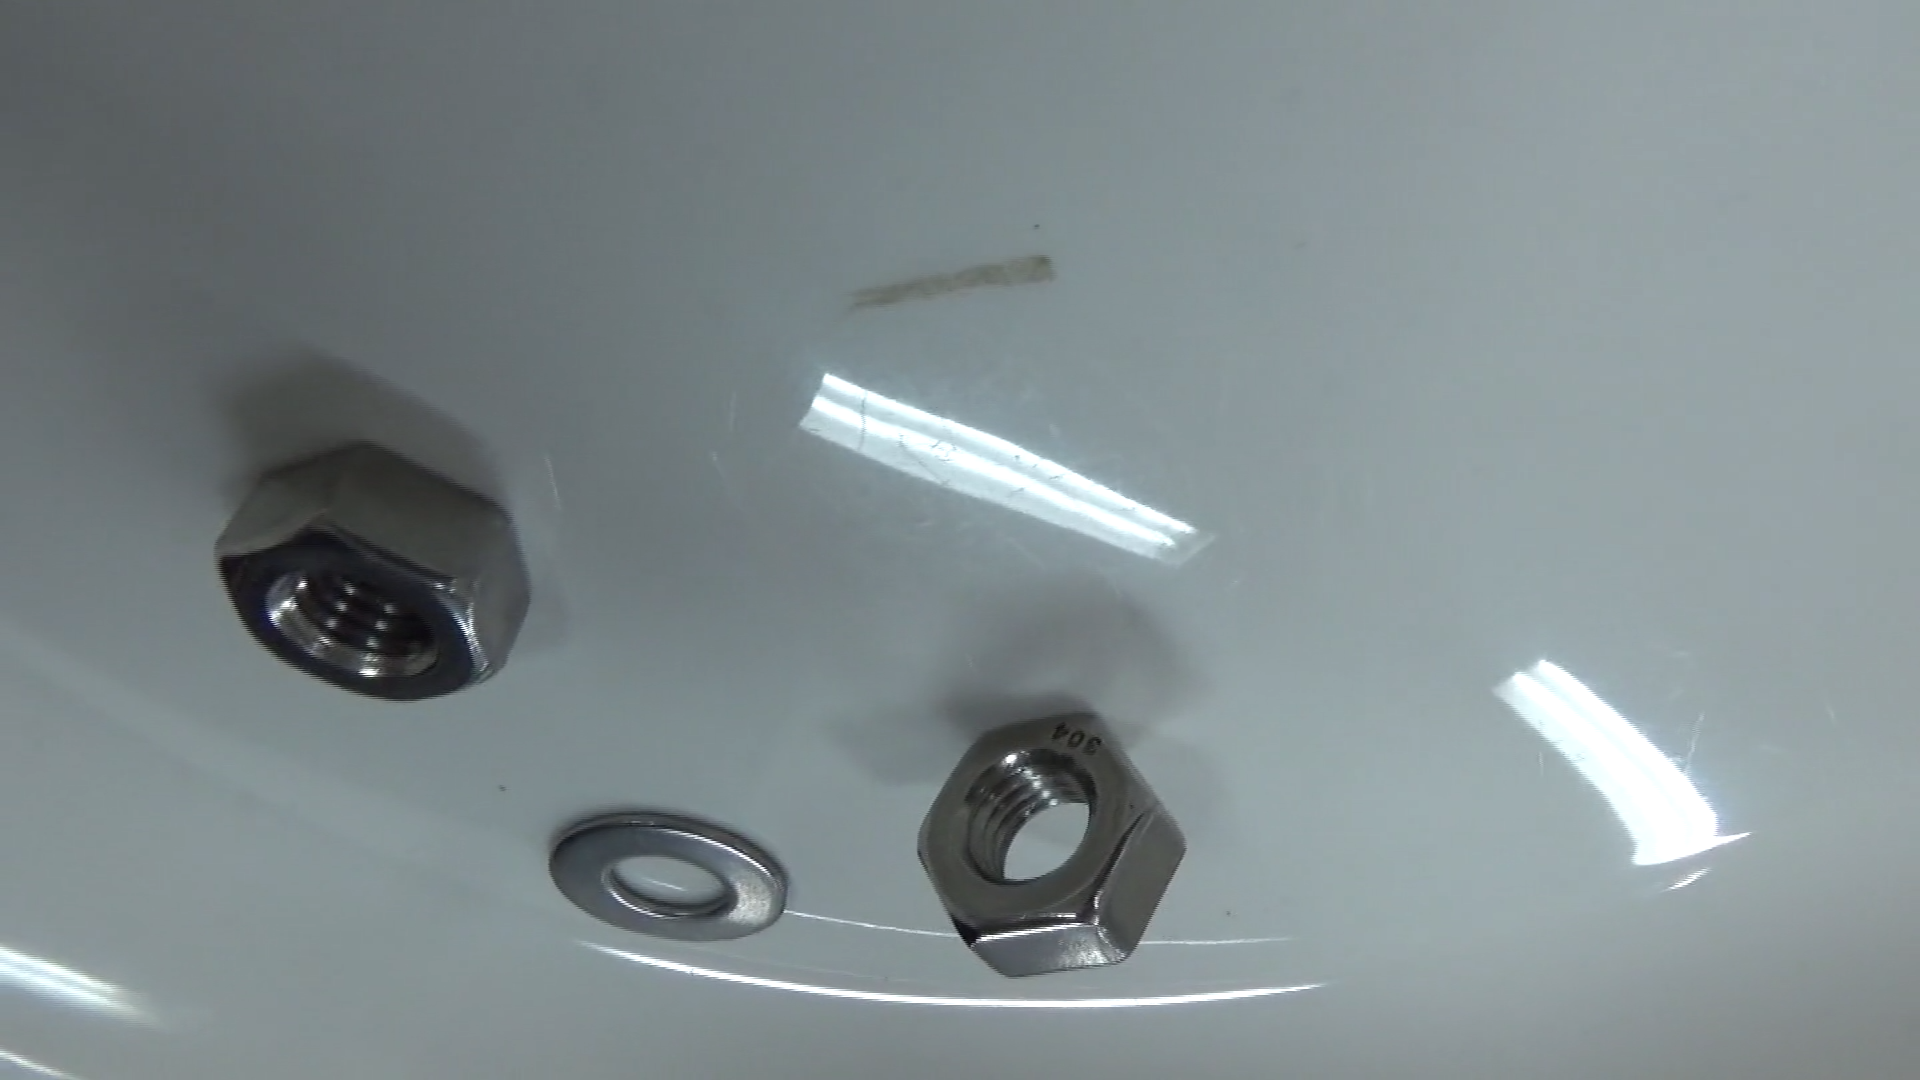nut: (204, 430, 535, 703), (913, 700, 1192, 976)
washer: (543, 803, 789, 943)
